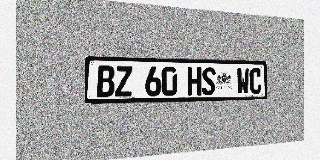0: (162, 67, 177, 96)
6: (145, 66, 161, 96)
B: (97, 65, 115, 97)
C: (250, 68, 261, 94)
H: (187, 67, 201, 95)
S: (202, 67, 216, 95)
W: (237, 68, 249, 94)
Z: (115, 66, 132, 97)
